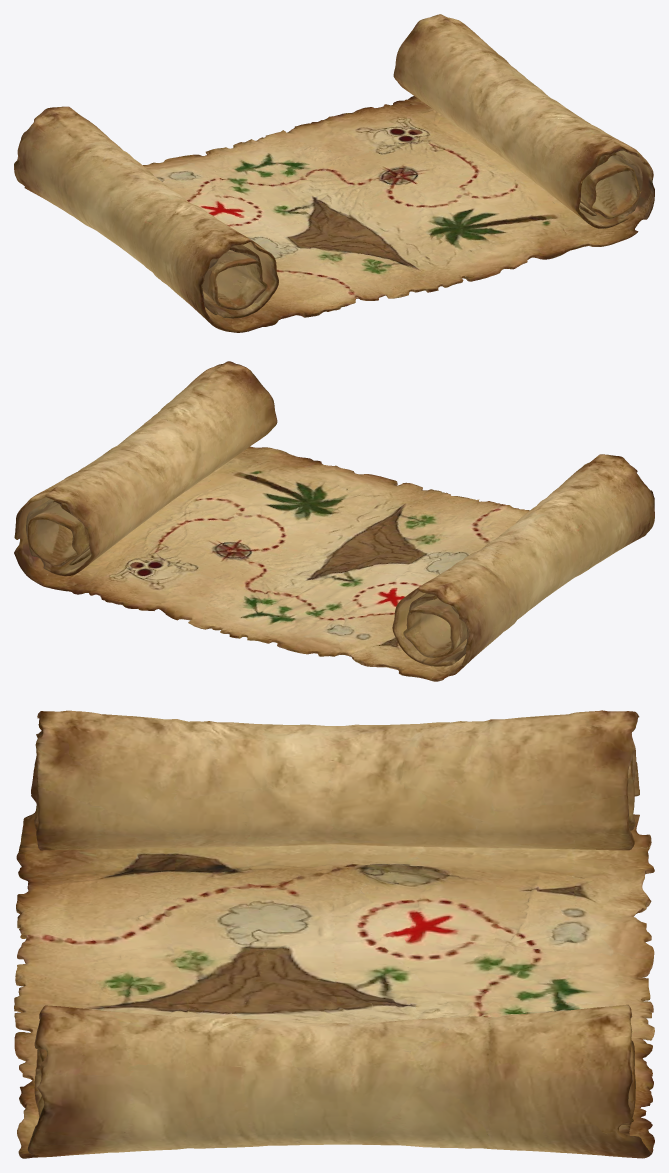
File: pergamino-pirata-lite.glb
The picture shows the model from 3 angles, top to bottom: view 1: azimuth 30°, elevation 25°; view 2: azimuth 150°, elevation 25°; view 3: azimuth 270°, elevation 25°; orthographic projection. The views are drawn at different scales.
Size of the model in its own units: 1.9 by 0.3589 by 1.44.
Materials: 1 (1 with a texture image).
